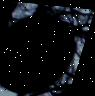Speed Limit -60-: (0, 14, 83, 95)
